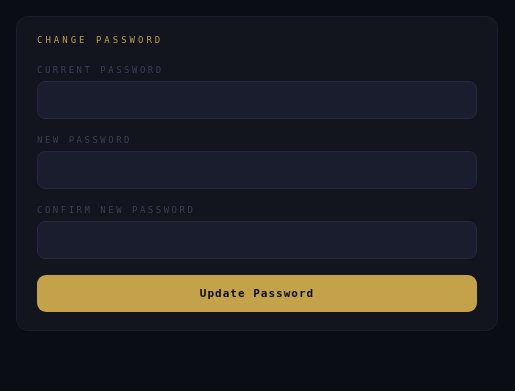
Test case: shows error when new password is too short
Type "currentpass" into the password field labelled "Current Password" at [257, 100], box top-left (37, 81), bottom-right (477, 119)
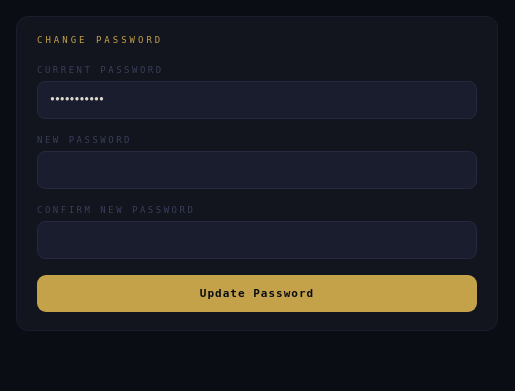
Type "short" into the password field labelled "New Password" at [257, 170], box top-left (37, 151), bottom-right (477, 189)
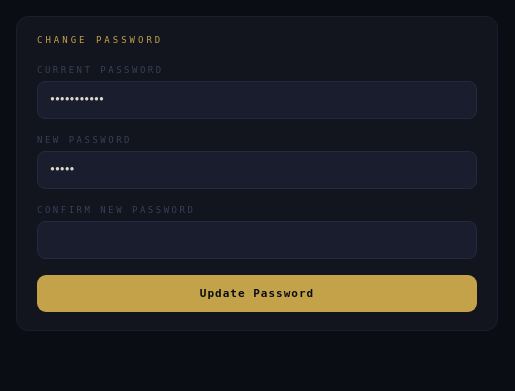
Type "short" into the password field labelled "Confirm New Password" at [257, 240], box top-left (37, 221), bottom-right (477, 259)
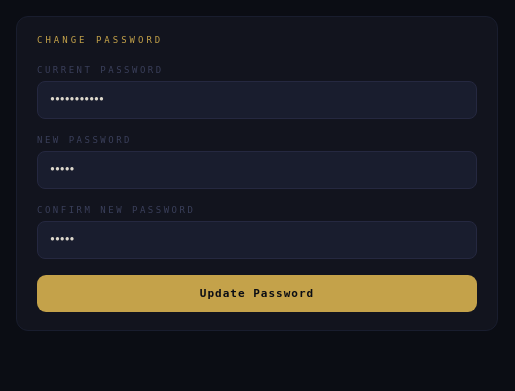
Click the button "Update Password" at [257, 294], box top-left (37, 275), bottom-right (477, 312)
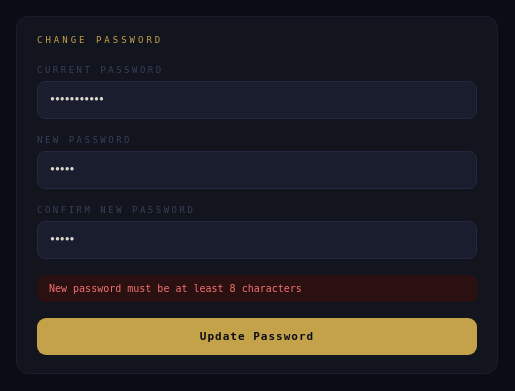
Check: the message shows "at least 8 characters", box top-left (49, 283), bottom-right (302, 294)
